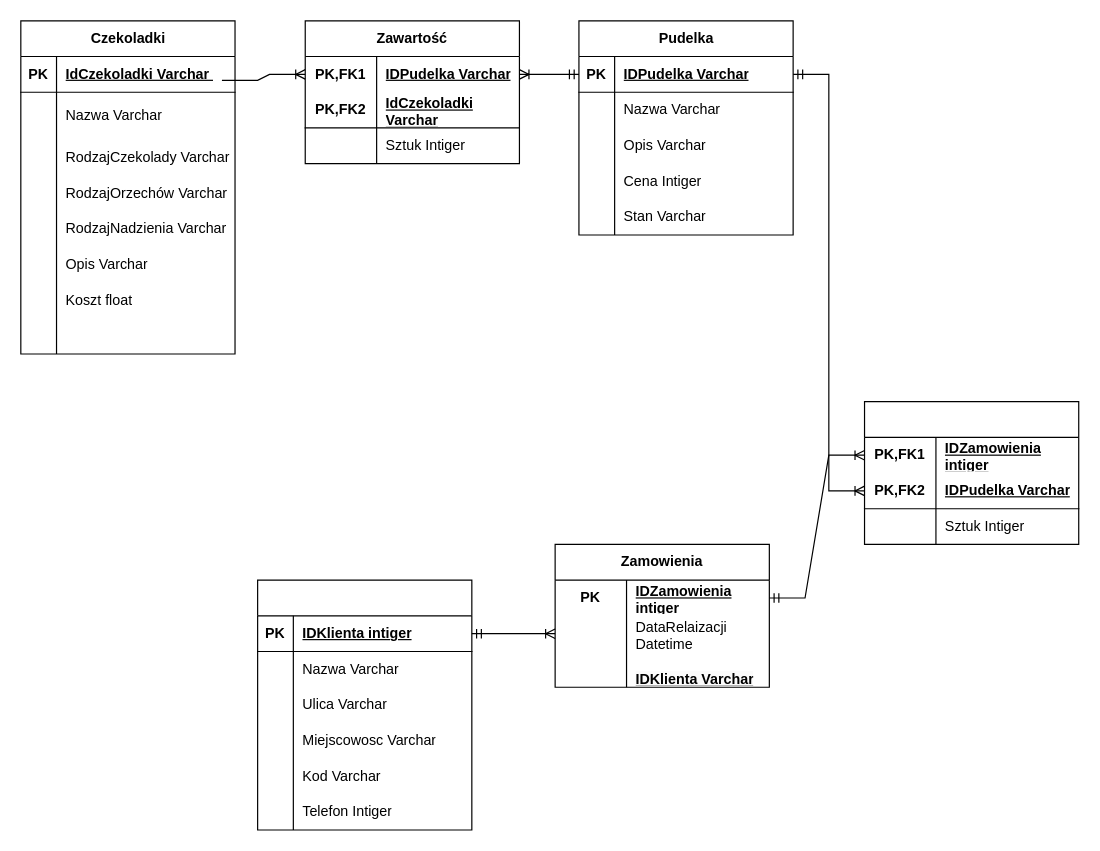
Image size: 1100x851. Some labels were removed from this diagram. The box of each missing label's shape, as (x1, y1, x2, y2) in pixels:
Artykuły: (863, 400, 1079, 544)
Klienci: (256, 579, 472, 830)
